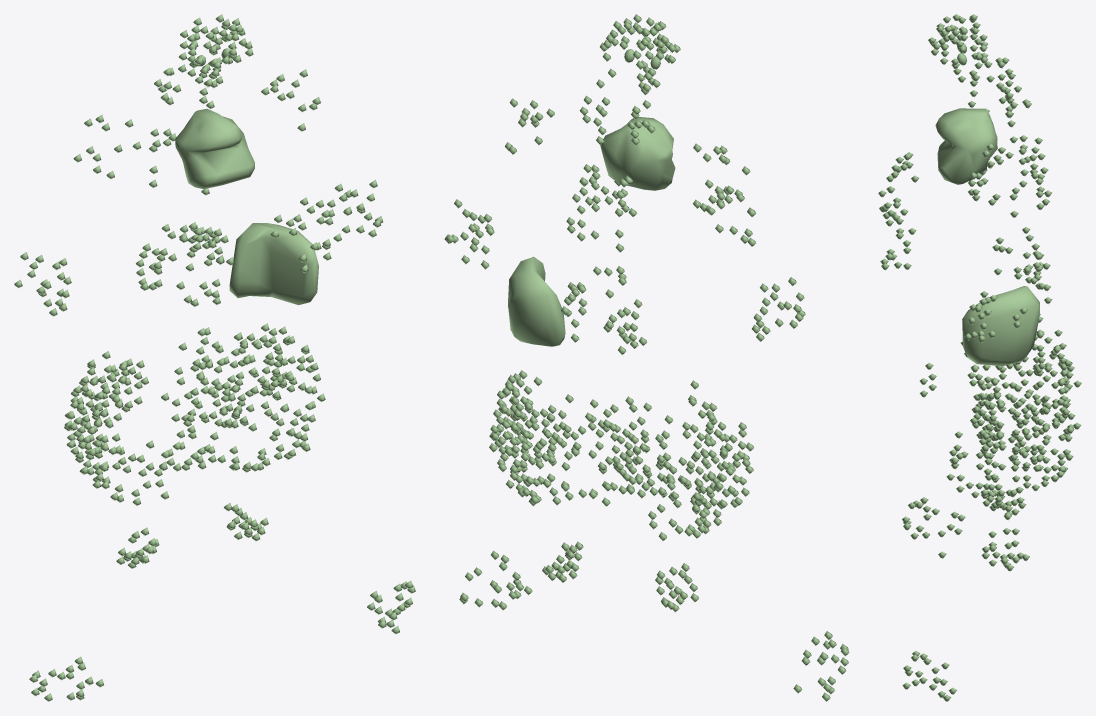
The model's file is pediatric_neonate_male.lymphatic.LOD2.glb.
3 views of the same model, side by side, from view 1: azimuth 30°, elevation 25°; view 2: azimuth 150°, elevation 25°; view 3: azimuth 270°, elevation 25° (orthographic). The views are drawn at different scales.
Parts seen in each view (by area): view 1: PEDIATRIC.NEONATE.MALE.LYMPHATIC.LYMPHATIC_NODES_TRUNK, PEDIATRIC.NEONATE.MALE.LYMPHATIC.SPLEEN, PEDIATRIC.NEONATE.MALE.LYMPHATIC.THYMUS, PEDIATRIC.NEONATE.MALE.LYMPHATIC.LYMPHATIC_NODES_ET, PEDIATRIC.NEONATE.MALE.LYMPHATIC.LYMPHATIC_NODES_THORACIC, PEDIATRIC.NEONATE.MALE.LYMPHATIC.LYMPHATIC_NODES_ARMS, PEDIATRIC.NEONATE.MALE.LYMPHATIC.LYMPHATIC_NODES_LEGS, PEDIATRIC.NEONATE.MALE.LYMPHATIC.LYMPHATIC_NODES_HEAD; view 2: PEDIATRIC.NEONATE.MALE.LYMPHATIC.LYMPHATIC_NODES_TRUNK, PEDIATRIC.NEONATE.MALE.LYMPHATIC.THYMUS, PEDIATRIC.NEONATE.MALE.LYMPHATIC.SPLEEN, PEDIATRIC.NEONATE.MALE.LYMPHATIC.LYMPHATIC_NODES_THORACIC, PEDIATRIC.NEONATE.MALE.LYMPHATIC.LYMPHATIC_NODES_ET, PEDIATRIC.NEONATE.MALE.LYMPHATIC.LYMPHATIC_NODES_LEGS, PEDIATRIC.NEONATE.MALE.LYMPHATIC.LYMPHATIC_NODES_ARMS, PEDIATRIC.NEONATE.MALE.LYMPHATIC.LYMPHATIC_NODES_HEAD; view 3: PEDIATRIC.NEONATE.MALE.LYMPHATIC.LYMPHATIC_NODES_TRUNK, PEDIATRIC.NEONATE.MALE.LYMPHATIC.SPLEEN, PEDIATRIC.NEONATE.MALE.LYMPHATIC.THYMUS, PEDIATRIC.NEONATE.MALE.LYMPHATIC.LYMPHATIC_NODES_THORACIC, PEDIATRIC.NEONATE.MALE.LYMPHATIC.LYMPHATIC_NODES_ET, PEDIATRIC.NEONATE.MALE.LYMPHATIC.LYMPHATIC_NODES_LEGS, PEDIATRIC.NEONATE.MALE.LYMPHATIC.LYMPHATIC_NODES_ARMS, PEDIATRIC.NEONATE.MALE.LYMPHATIC.LYMPHATIC_NODES_HEAD.
Part boxes in pixels (x1=…): PEDIATRIC.NEONATE.MALE.LYMPHATIC.LYMPHATIC_NODES_TRUNK: x1=64, y1=69, x2=333, y2=568; PEDIATRIC.NEONATE.MALE.LYMPHATIC.SPLEEN: x1=229, y1=223, x2=318, y2=305; PEDIATRIC.NEONATE.MALE.LYMPHATIC.THYMUS: x1=175, y1=108, x2=254, y2=188; PEDIATRIC.NEONATE.MALE.LYMPHATIC.LYMPHATIC_NODES_ET: x1=178, y1=14, x2=253, y2=88; PEDIATRIC.NEONATE.MALE.LYMPHATIC.LYMPHATIC_NODES_THORACIC: x1=136, y1=128, x2=228, y2=306; PEDIATRIC.NEONATE.MALE.LYMPHATIC.LYMPHATIC_NODES_ARMS: x1=14, y1=179, x2=382, y2=316; PEDIATRIC.NEONATE.MALE.LYMPHATIC.LYMPHATIC_NODES_LEGS: x1=29, y1=580, x2=415, y2=701; PEDIATRIC.NEONATE.MALE.LYMPHATIC.LYMPHATIC_NODES_HEAD: x1=154, y1=51, x2=222, y2=109; PEDIATRIC.NEONATE.MALE.LYMPHATIC.LYMPHATIC_NODES_TRUNK: x1=489, y1=98, x2=756, y2=612; PEDIATRIC.NEONATE.MALE.LYMPHATIC.THYMUS: x1=600, y1=117, x2=675, y2=190; PEDIATRIC.NEONATE.MALE.LYMPHATIC.SPLEEN: x1=508, y1=256, x2=565, y2=346; PEDIATRIC.NEONATE.MALE.LYMPHATIC.LYMPHATIC_NODES_THORACIC: x1=561, y1=171, x2=647, y2=354; PEDIATRIC.NEONATE.MALE.LYMPHATIC.LYMPHATIC_NODES_ET: x1=600, y1=14, x2=680, y2=95; PEDIATRIC.NEONATE.MALE.LYMPHATIC.LYMPHATIC_NODES_LEGS: x1=459, y1=550, x2=849, y2=701; PEDIATRIC.NEONATE.MALE.LYMPHATIC.LYMPHATIC_NODES_ARMS: x1=444, y1=199, x2=805, y2=341; PEDIATRIC.NEONATE.MALE.LYMPHATIC.LYMPHATIC_NODES_HEAD: x1=580, y1=79, x2=655, y2=145; PEDIATRIC.NEONATE.MALE.LYMPHATIC.LYMPHATIC_NODES_TRUNK: x1=878, y1=57, x2=1081, y2=571; PEDIATRIC.NEONATE.MALE.LYMPHATIC.SPLEEN: x1=962, y1=286, x2=1039, y2=366; PEDIATRIC.NEONATE.MALE.LYMPHATIC.THYMUS: x1=935, y1=108, x2=997, y2=184; PEDIATRIC.NEONATE.MALE.LYMPHATIC.LYMPHATIC_NODES_THORACIC: x1=988, y1=135, x2=1052, y2=304; PEDIATRIC.NEONATE.MALE.LYMPHATIC.LYMPHATIC_NODES_ET: x1=928, y1=14, x2=988, y2=82; PEDIATRIC.NEONATE.MALE.LYMPHATIC.LYMPHATIC_NODES_LEGS: x1=902, y1=497, x2=965, y2=701; PEDIATRIC.NEONATE.MALE.LYMPHATIC.LYMPHATIC_NODES_ARMS: x1=964, y1=156, x2=1030, y2=342; PEDIATRIC.NEONATE.MALE.LYMPHATIC.LYMPHATIC_NODES_HEAD: x1=968, y1=61, x2=1021, y2=127.
Bounding box in the file's own units: 0.1829 × 0.2965 × 0.0902.
